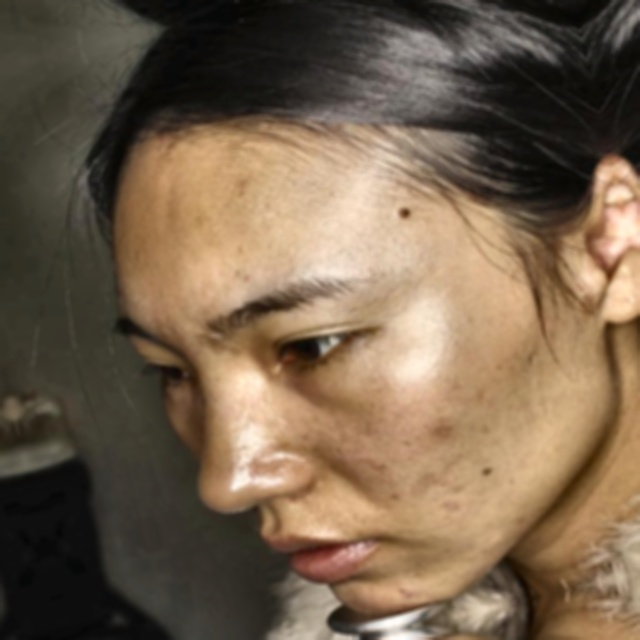comedone: (381, 566, 429, 610), (420, 408, 465, 451), (475, 519, 514, 566)
